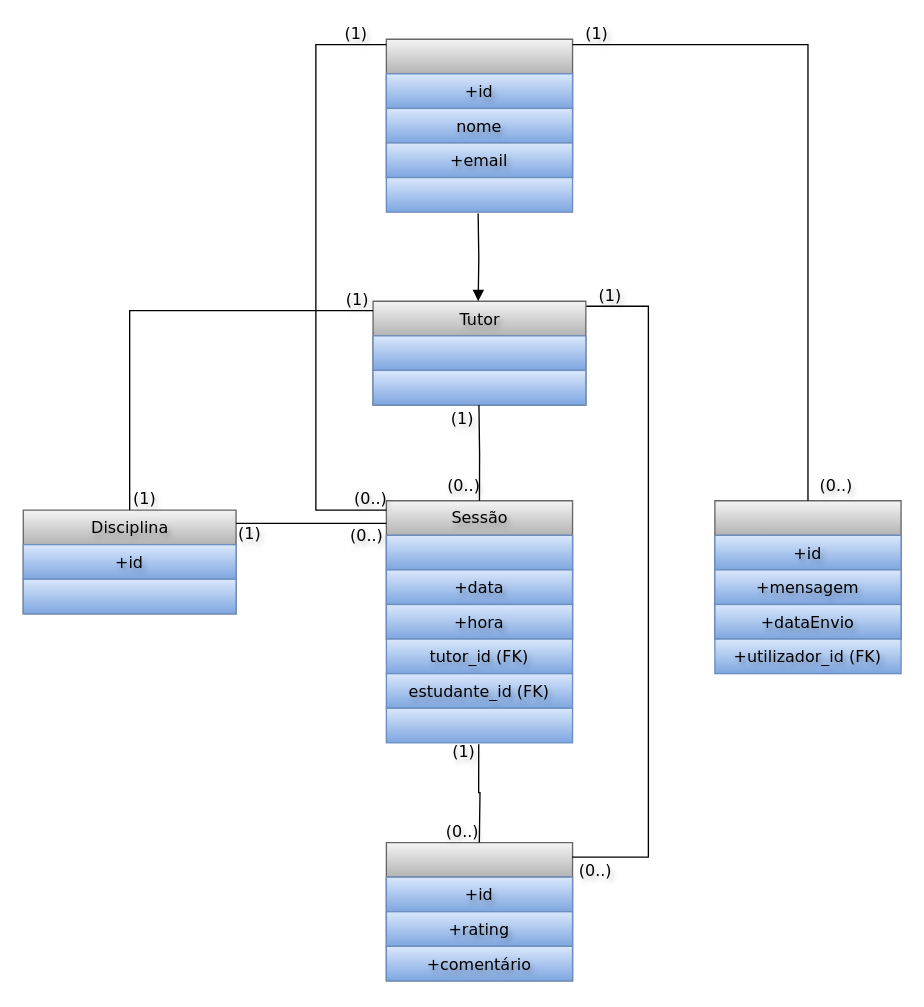
The diagram is 924 pixels wide and 1007 high, and some of its shapes have lost their labels. Each missing label, with the box of its shape:
+avaliaçãoMedia: (372, 369, 586, 405)
+curso: (385, 176, 573, 212)
+especialização: (372, 334, 586, 370)
+id (PK): (385, 534, 573, 570)
+nome: (22, 578, 236, 614)
disciplina id (FK): (385, 707, 573, 743)
Feedback: (385, 841, 573, 981)
Notificação: (714, 499, 901, 639)
Utilizador: (385, 38, 573, 178)
